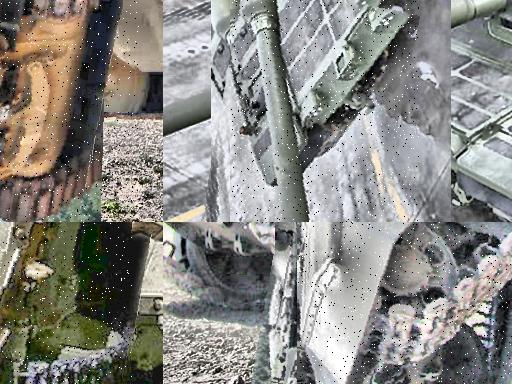tanks: (231, 1, 420, 223), (299, 223, 512, 384), (1, 1, 117, 223), (1, 223, 132, 384)
